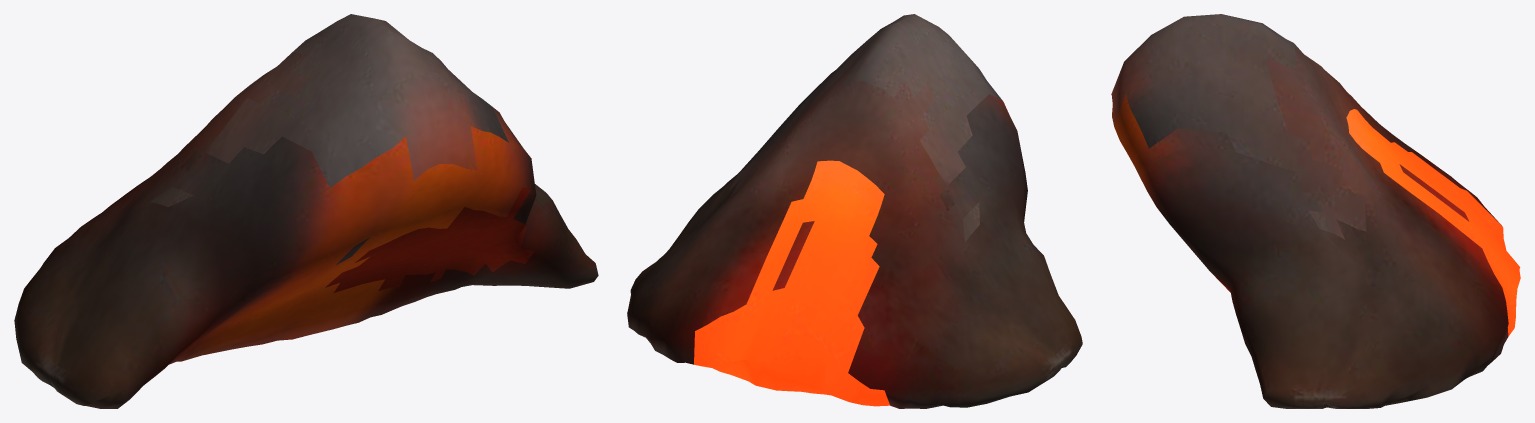
Rendered from demolisher-segment.glb.
3 views of the same model, side by side, from view 1: azimuth 30°, elevation 25°; view 2: azimuth 150°, elevation 25°; view 3: azimuth 270°, elevation 25° (orthographic). The views are drawn at different scales.
Parts seen in each view (by area): view 1: body; view 2: body; view 3: body.
Boxes of the visible parts, x1=… form: body: x1=14, y1=14, x2=598, y2=408; body: x1=627, y1=14, x2=1082, y2=408; body: x1=1111, y1=14, x2=1520, y2=408.
Bounding box in the file's own units: 8.96 × 5.69 × 7.21.
Materials: 2 (2 with a texture image).
